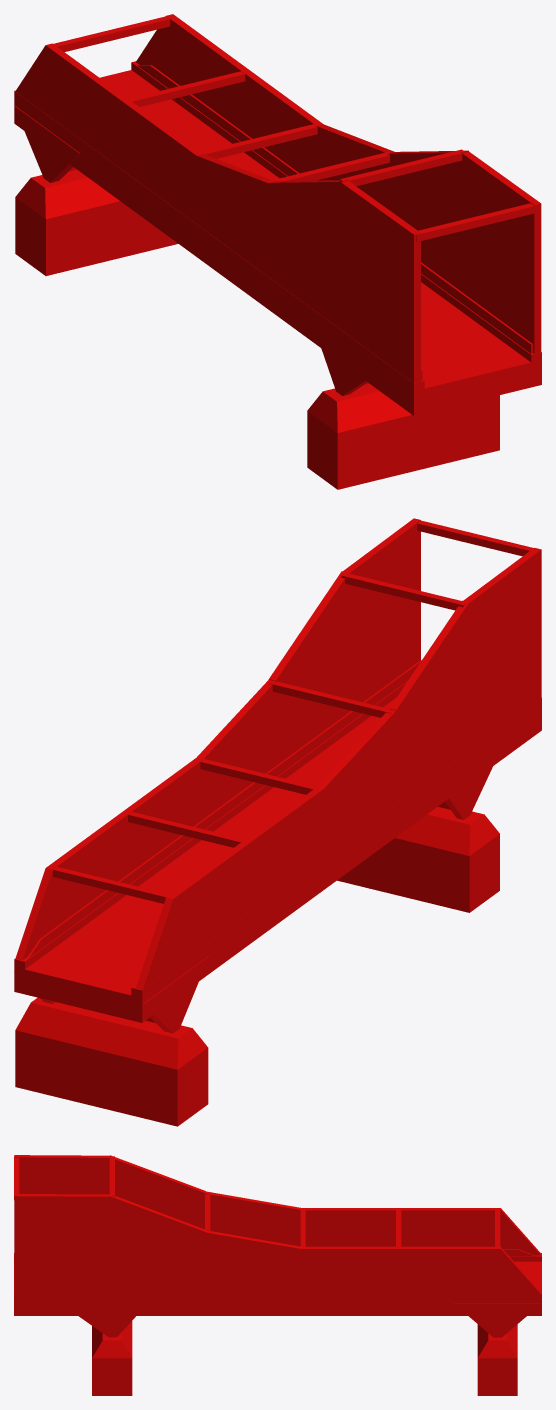
The model's file is SM_Env_Bridge_Clean_01_Collision.fbx.
3 renders of one model, top to bottom at view 1: azimuth 30°, elevation 25°; view 2: azimuth 150°, elevation 25°; view 3: azimuth 270°, elevation 25°, orthographic. The views are drawn at different scales.
Visible parts, largest first — view 1: SM_Env_Bridge_Clean_01_Collision; view 2: SM_Env_Bridge_Clean_01_Collision; view 3: SM_Env_Bridge_Clean_01_Collision.
Part boxes in pixels (x1=…): SM_Env_Bridge_Clean_01_Collision: x1=14, y1=14, x2=541, y2=489; SM_Env_Bridge_Clean_01_Collision: x1=14, y1=518, x2=541, y2=1126; SM_Env_Bridge_Clean_01_Collision: x1=14, y1=1155, x2=541, y2=1395.
Size of the model in its own units: 2592 by 4485 by 11056.
